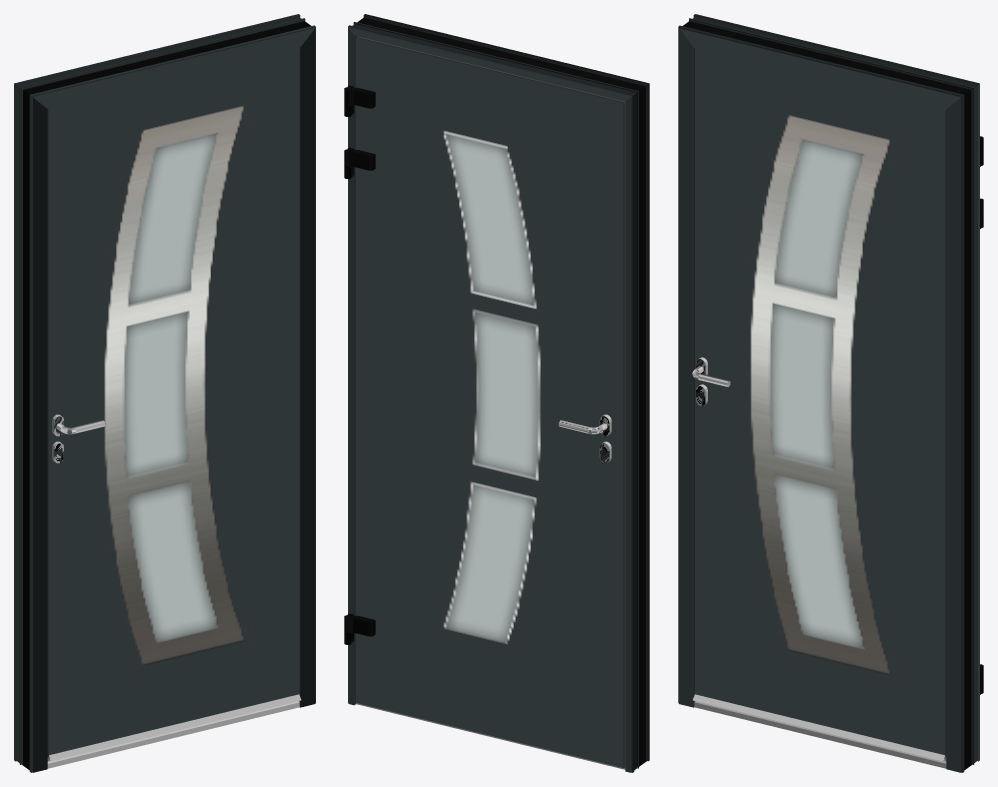
3 views of the same model, side by side, from view 1: azimuth 30°, elevation 25°; view 2: azimuth 150°, elevation 25°; view 3: azimuth 330°, elevation 25° (orthographic).
Parts seen in each view (by area): view 1: ouvrant, 105; view 2: ouvrant, 105; view 3: ouvrant, 105.
Part boxes in pixels (x1=…): ouvrant: x1=47, y1=48, x2=301, y2=761; 105: x1=14, y1=14, x2=315, y2=772; ouvrant: x1=344, y1=36, x2=625, y2=768; 105: x1=344, y1=14, x2=649, y2=772; ouvrant: x1=693, y1=48, x2=983, y2=761; 105: x1=678, y1=14, x2=983, y2=772.
Bounding box in the file's own units: 96 × 218 × 24.64.
1 material, 1 textured.
